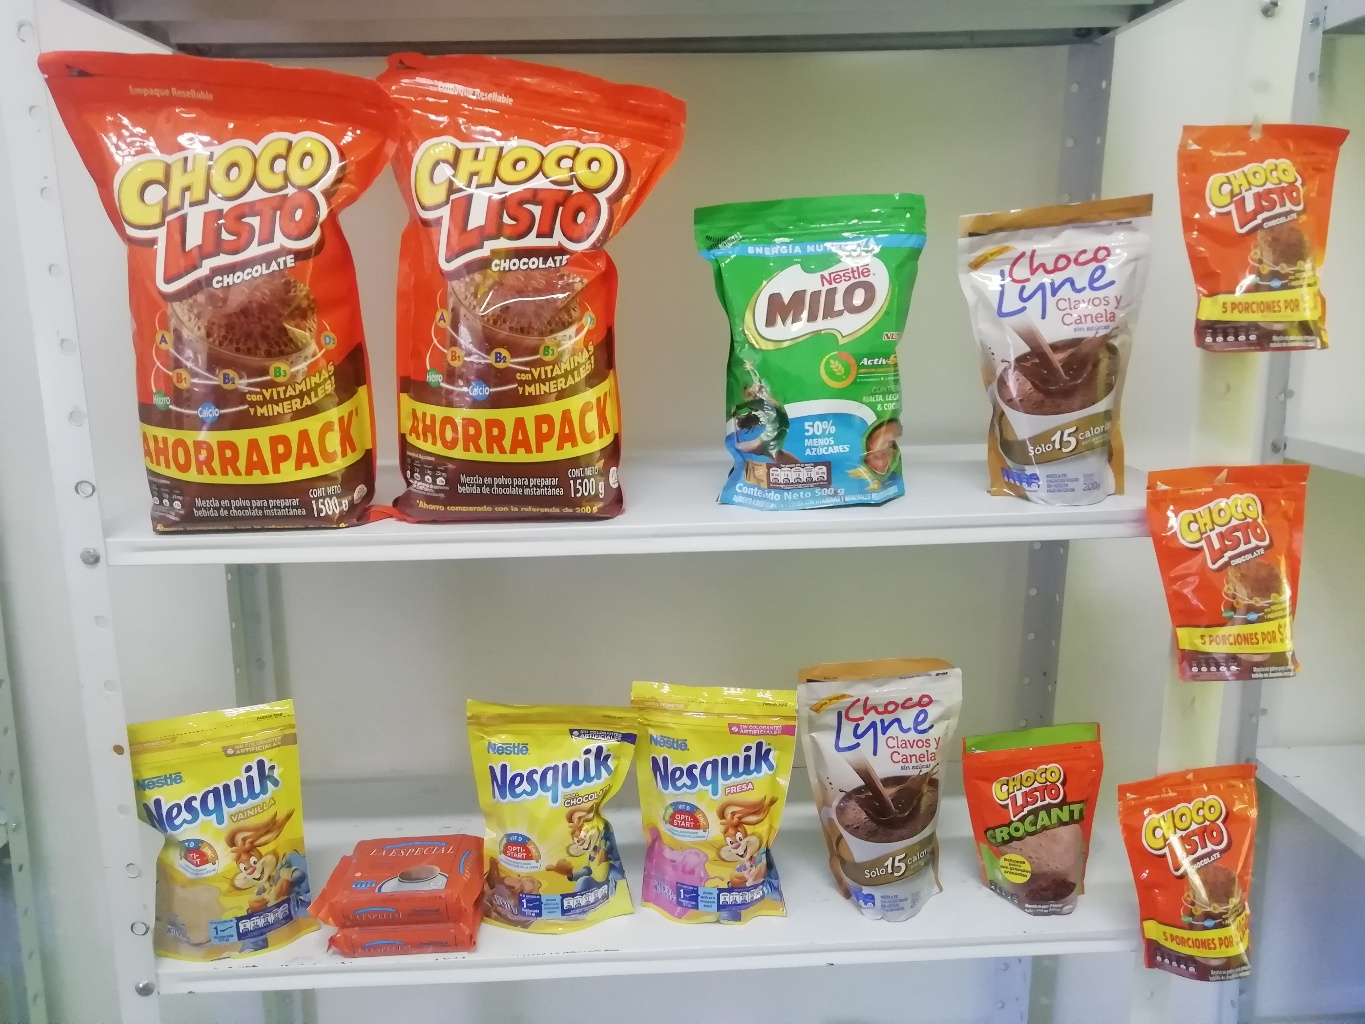COL0170102DYP10000: (962, 726, 1113, 918)
COL0170103DYP1,500: (38, 41, 397, 536)
COL0170205DYP50000: (693, 198, 928, 514)
COL0170303DYP20000: (463, 696, 650, 936)
COL0170305DYP20000: (631, 677, 798, 927)
COL0170306DYP20000: (109, 700, 323, 956)
